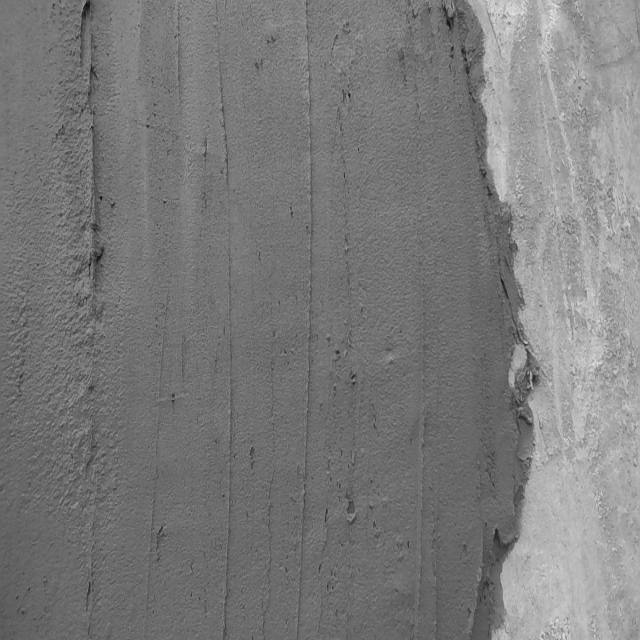trowels marks: (294, 0, 324, 640), (214, 35, 238, 640), (74, 3, 109, 319)
